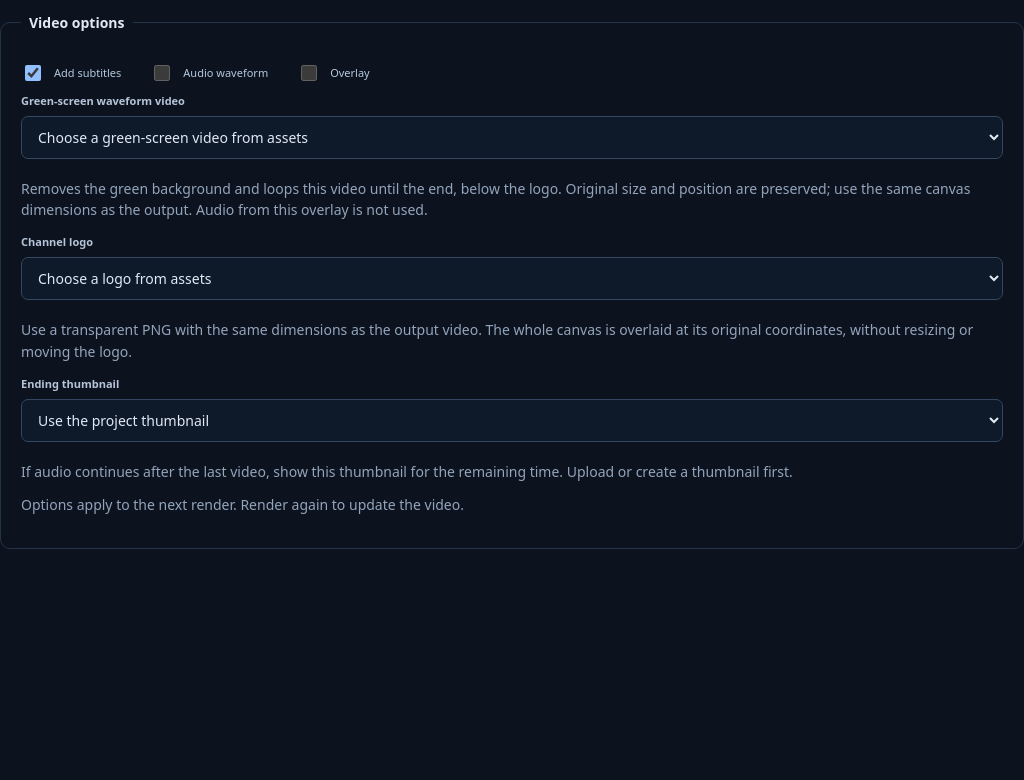
saves mutually exclusive captions and waveform, with independent logo
expect the checkbox labelled "Add subtitles" is checked: met, box [25, 65, 41, 81]
expect the checkbox labelled "Audio waveform" is disabled: met, box [154, 65, 170, 81]
Select "Wave.mp4" in the dropdown labelled "Green-screen waveform video" at (512, 137), box [21, 116, 1003, 159]
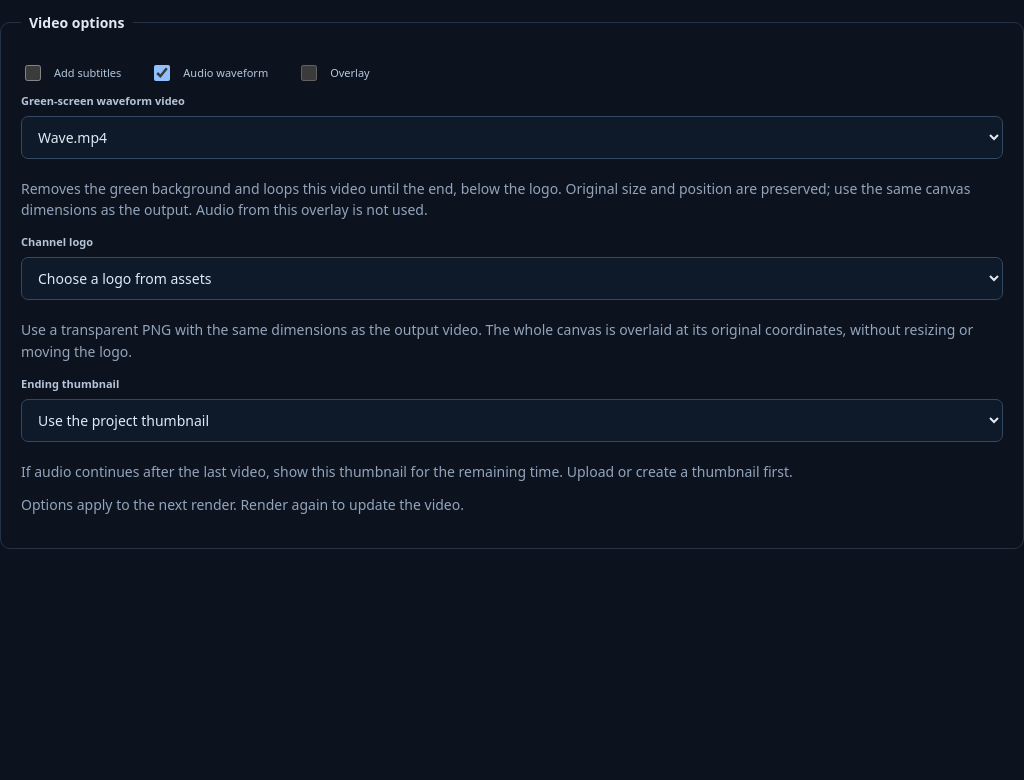
expect the checkbox labelled "Audio waveform" is enabled: met, box [154, 65, 170, 81]
expect the checkbox labelled "Add subtitles" is not checked: met, box [25, 65, 41, 81]
Select "Channel.png" in the dropdown labelled "Channel logo" at (512, 279), box [21, 257, 1003, 300]
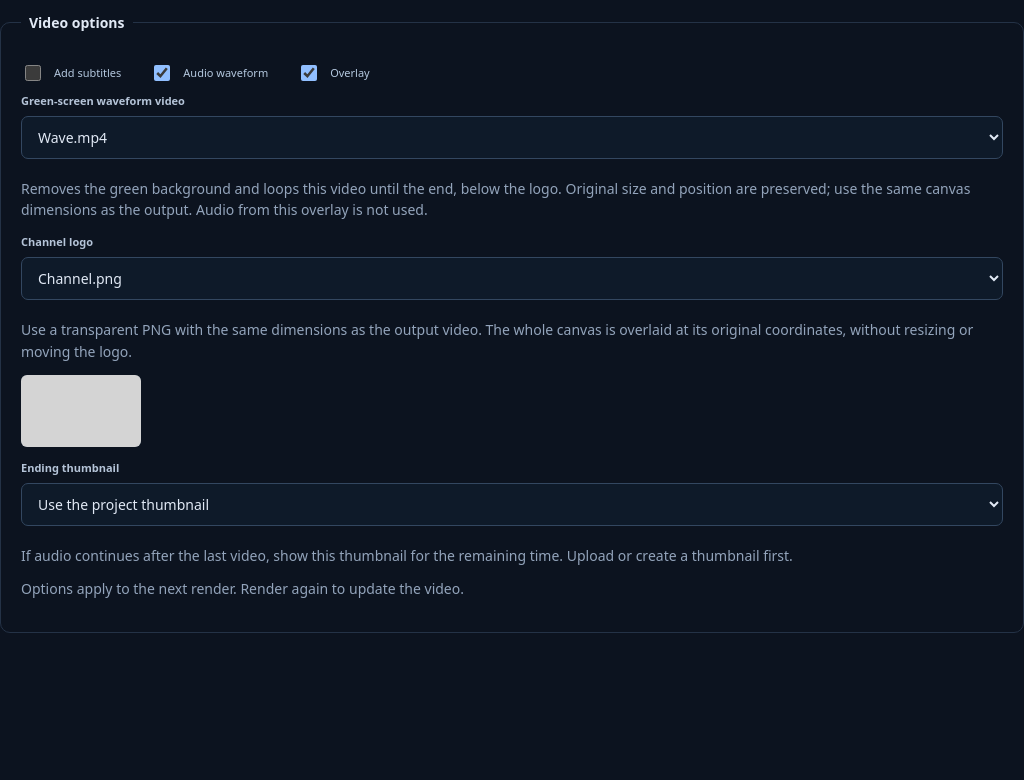
expect the checkbox labelled "Overlay" is enabled: met, box [301, 65, 317, 81]
expect the checkbox labelled "Overlay" is checked: met, box [301, 65, 317, 81]
Click the checkbox labelled "Add subtitles" at (33, 73), box [25, 65, 41, 81]
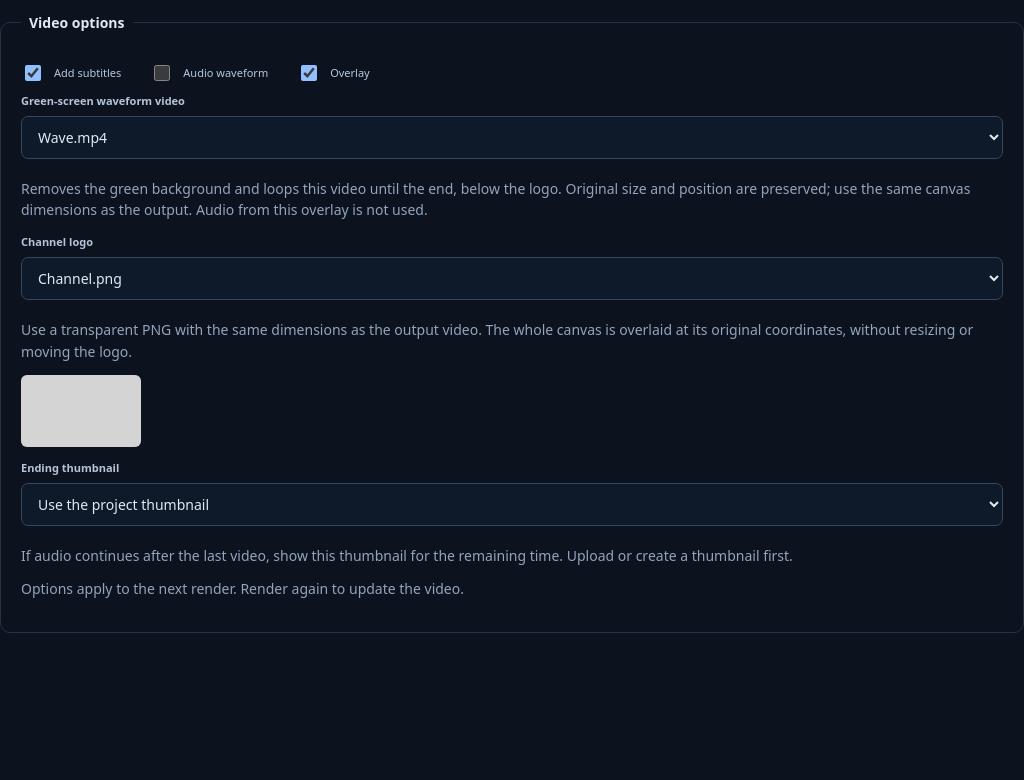
expect the checkbox labelled "Audio waveform" is not checked: met, box [154, 65, 170, 81]
